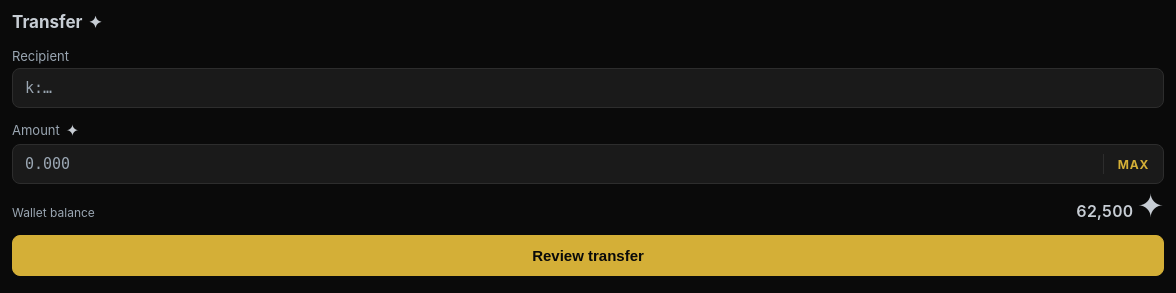
TransferUrStoaModal › shows the wallet balance and MAX fills the amount with it (Stoa-send format)
This screenshot has width=1176, height=293.
Expected: the element with test id "urstoa-transfer-balance" is shown, [12,188,1164,223]
Click the button with test id "urstoa-transfer-max". click: [1133, 164]
box: [1104,145,1163,183]
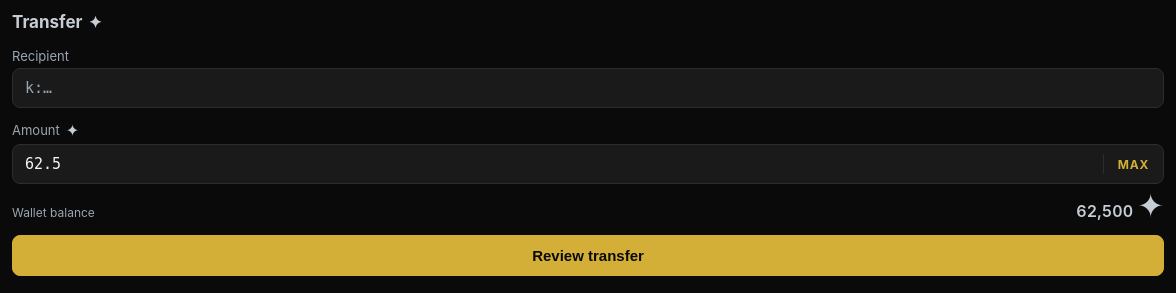
Now the field with test id "urstoa-transfer-amount" holds "62.5", box [13,145,1103,183]
